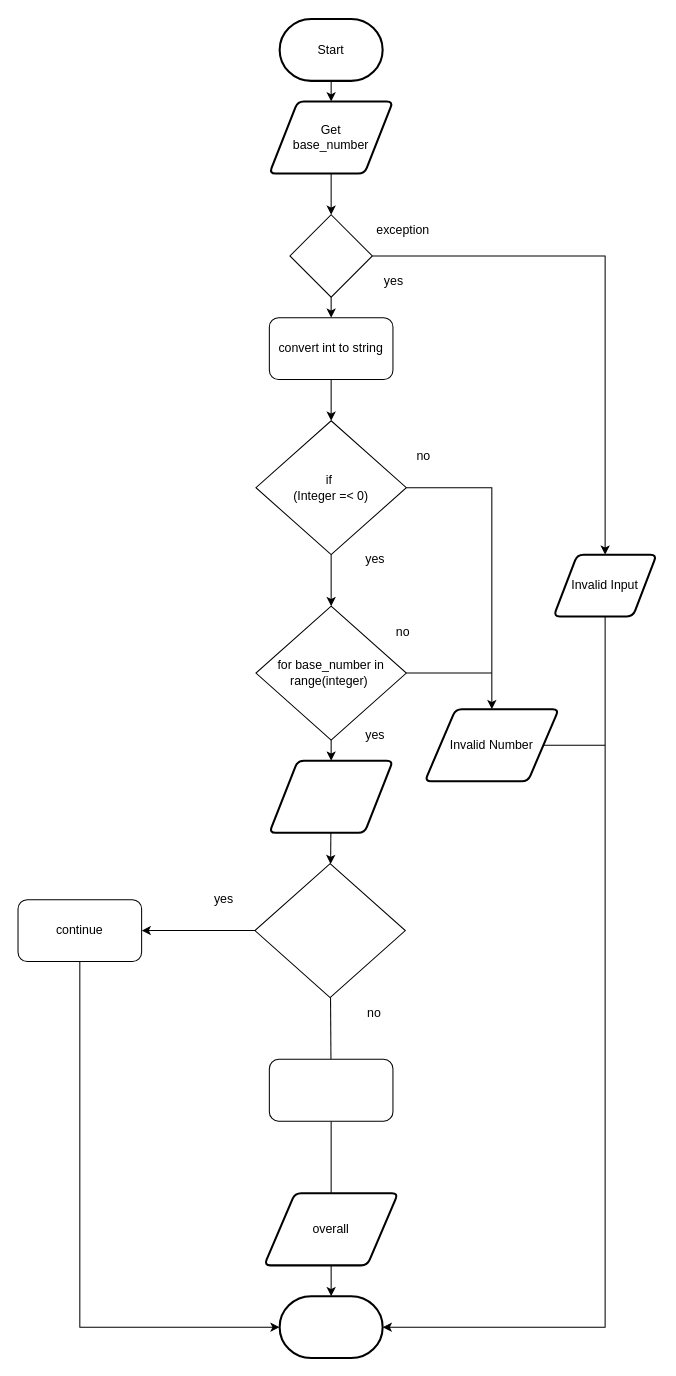
Image size: 676x1376. Some labels were removed from this diagram. The box of each missing label's shape, as (x1, y1, x2, y2) in pixels:
Get integer: (268, 759, 393, 833)
if integer < 0: (254, 863, 405, 998)
overall = total + integer: (268, 1058, 393, 1121)
Stop: (278, 1295, 383, 1359)
Try: (289, 214, 372, 297)
